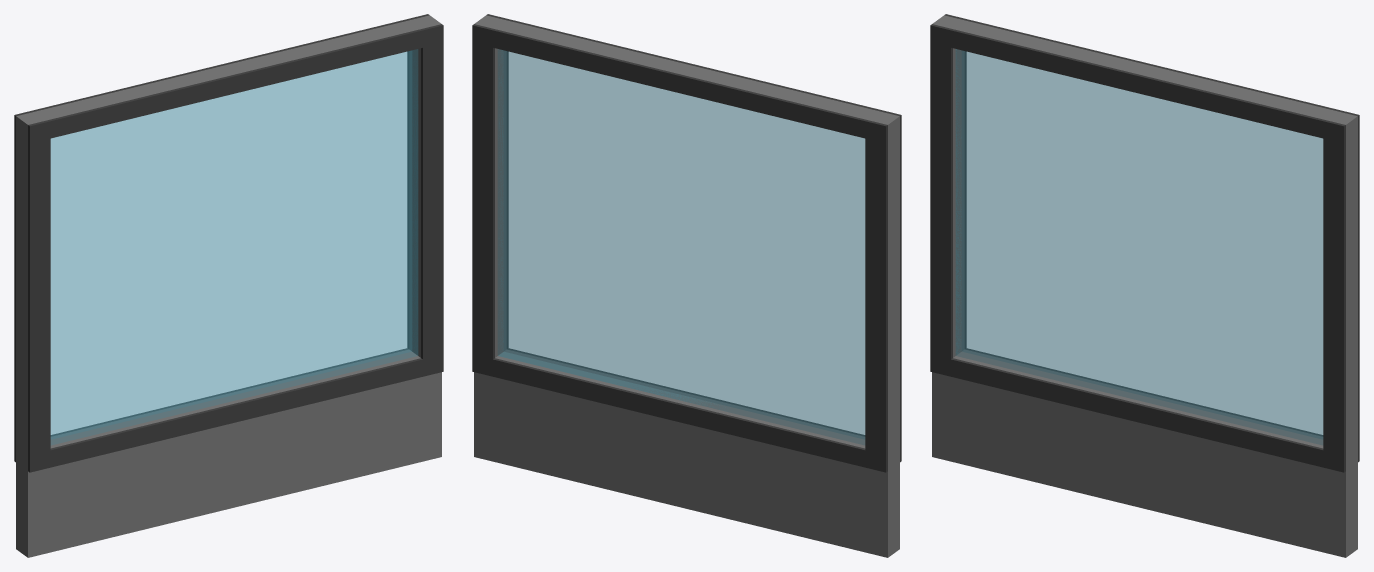
Rendered from Window.fbx.
3 renders of one model, left to right at view 1: azimuth 30°, elevation 25°; view 2: azimuth 150°, elevation 25°; view 3: azimuth 330°, elevation 25°, orthographic.
Visible parts, largest first — view 1: Window; view 2: Window; view 3: Window.
Boxes of the visible parts, <box> form: Window: <box>14,14,443,557</box>; Window: <box>472,14,901,557</box>; Window: <box>930,14,1359,557</box>.
Size of the model in its own units: 2000 by 2000 by 130.
